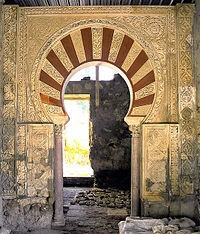arco-herradura: (55, 54, 137, 130)
